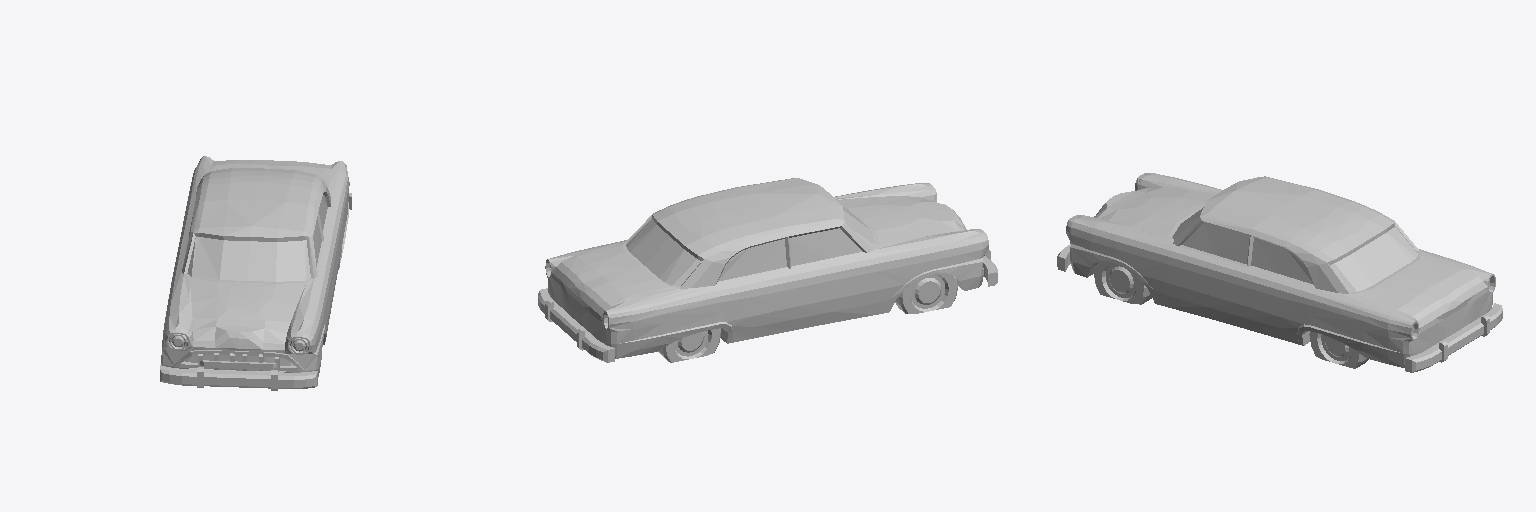
The model's file is car.obj.
3 renders of one model, left to right at view 1: azimuth 30°, elevation 25°; view 2: azimuth 150°, elevation 25°; view 3: azimuth 270°, elevation 25°, orthographic.
Parts seen in each view (by area): view 1: Car group1; view 2: Car group1; view 3: Car group1.
Boxes of the visible parts, box(x1,y1,x2,y2) form: Car group1: box(160, 156, 351, 390); Car group1: box(538, 178, 997, 362); Car group1: box(1057, 173, 1502, 372).
Bounding box in the file's own units: 0.2292 × 0.0709 × 0.2733.